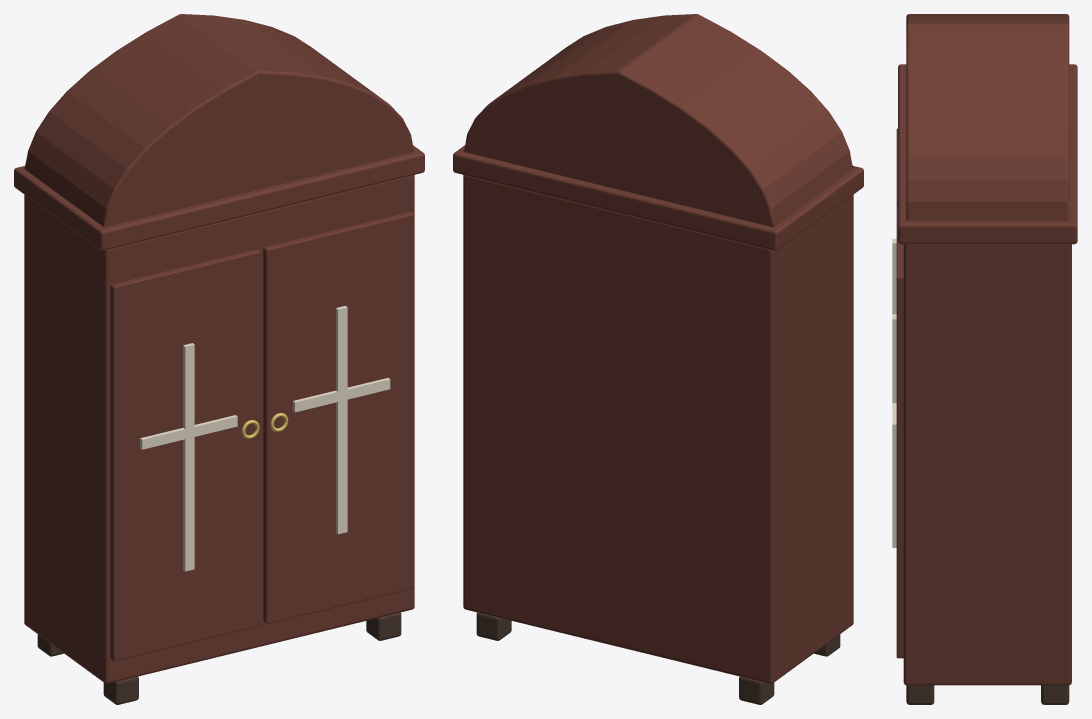
Rendered from wardrobe_bone_inlay.glb.
The picture shows the model from 3 angles, left to right: view 1: azimuth 30°, elevation 25°; view 2: azimuth 150°, elevation 25°; view 3: azimuth 270°, elevation 25°; orthographic projection.
Parts seen in each view (by area): view 1: GD_wardrobe_bone_inlay__m0, GD_wardrobe_bone_inlay__m2, GD_wardrobe_bone_inlay__m3; view 2: GD_wardrobe_bone_inlay__m0, GD_wardrobe_bone_inlay__m3; view 3: GD_wardrobe_bone_inlay__m0, GD_wardrobe_bone_inlay__m2, GD_wardrobe_bone_inlay__m3.
Part boxes in pixels (x1,y1,x2,y2): GD_wardrobe_bone_inlay__m0: (14, 14, 424, 683); GD_wardrobe_bone_inlay__m2: (140, 306, 390, 571); GD_wardrobe_bone_inlay__m3: (37, 612, 401, 704); GD_wardrobe_bone_inlay__m0: (453, 14, 863, 683); GD_wardrobe_bone_inlay__m3: (476, 612, 840, 704); GD_wardrobe_bone_inlay__m0: (896, 14, 1077, 685); GD_wardrobe_bone_inlay__m2: (892, 238, 896, 547); GD_wardrobe_bone_inlay__m3: (906, 685, 1069, 704).
Size of the model in its own units: 1.36 by 2.4 by 0.66.
